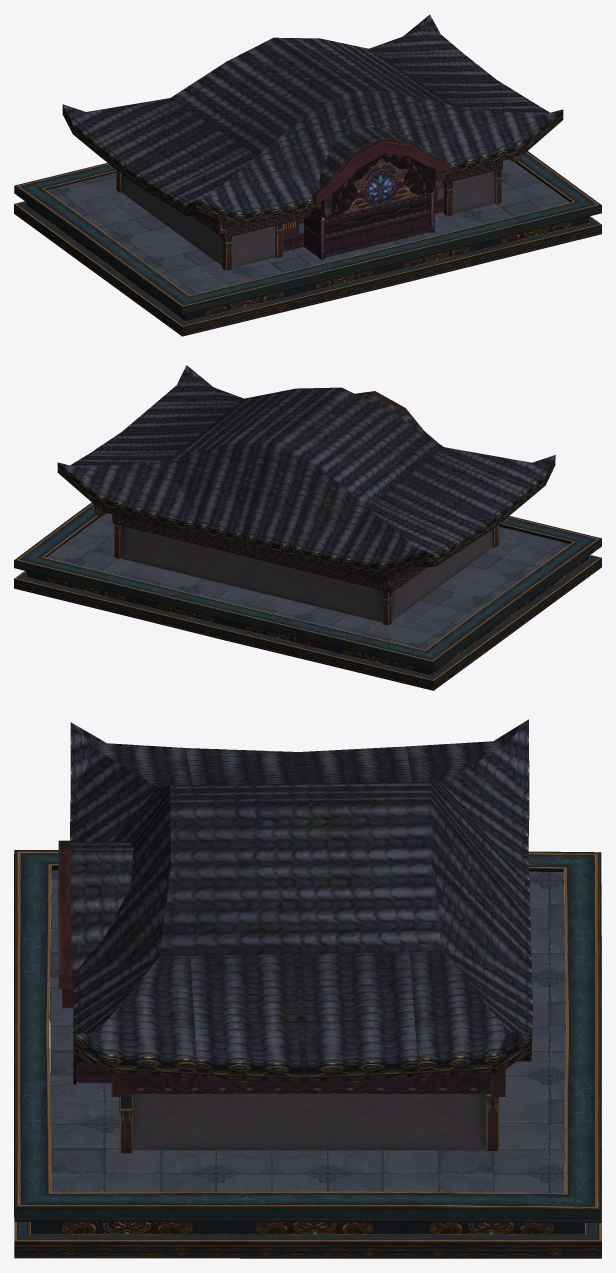
Rendered from Yland2_jz_05 Yland2.FBX.
3 renders of one model, top to bottom at view 1: azimuth 30°, elevation 25°; view 2: azimuth 150°, elevation 25°; view 3: azimuth 270°, elevation 25°, orthographic. The views are drawn at different scales.
Visible parts, largest first — view 1: Yland2_jz_05 Yland2; view 2: Yland2_jz_05 Yland2; view 3: Yland2_jz_05 Yland2.
Part boxes in pixels (bbox=[...]): Yland2_jz_05 Yland2: bbox=[14, 14, 601, 336]; Yland2_jz_05 Yland2: bbox=[14, 365, 601, 690]; Yland2_jz_05 Yland2: bbox=[14, 719, 601, 1258].
Bounding box in the file's own units: 21.33 × 7.81 × 14.83.
